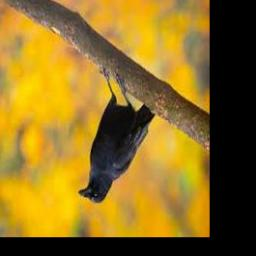Crow: (78, 66, 156, 203)
